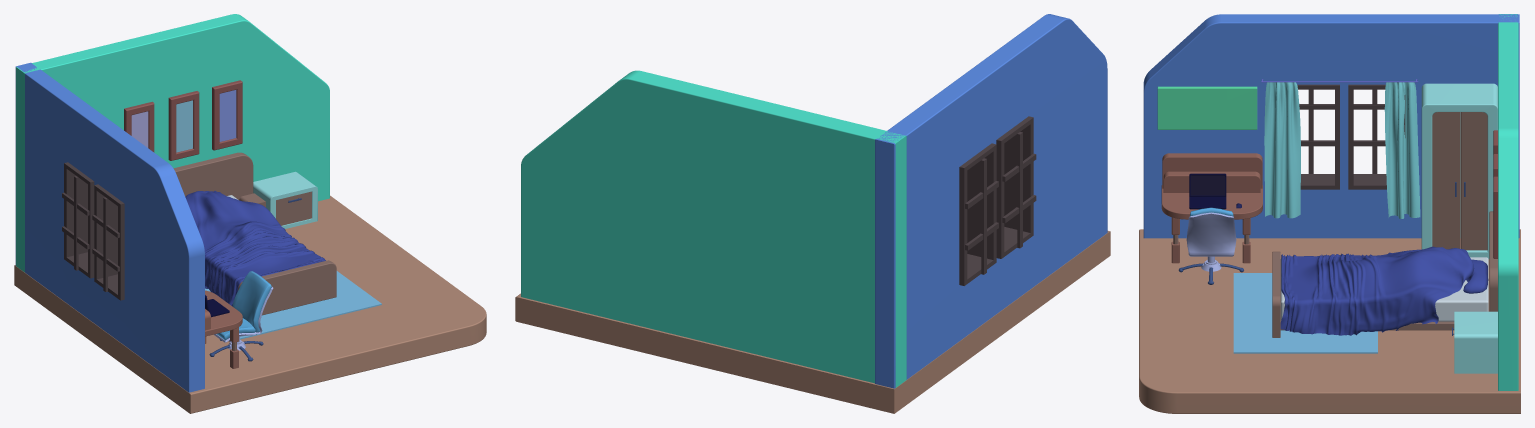
File: bedroom.gltf
The picture shows the model from 3 angles, left to right: view 1: azimuth 30°, elevation 25°; view 2: azimuth 150°, elevation 25°; view 3: azimuth 270°, elevation 25°; orthographic projection. The views are drawn at different scales.
Visible parts, largest first — view 1: Room6.001; view 2: Room6.001; view 3: Room6.001.
Part boxes in pixels (x1=…): Room6.001: x1=14, y1=14, x2=486, y2=413; Room6.001: x1=515, y1=14, x2=1110, y2=413; Room6.001: x1=1139, y1=14, x2=1520, y2=413.
Bounding box in the file's own units: 0.7894 × 0.5239 × 0.7637.
